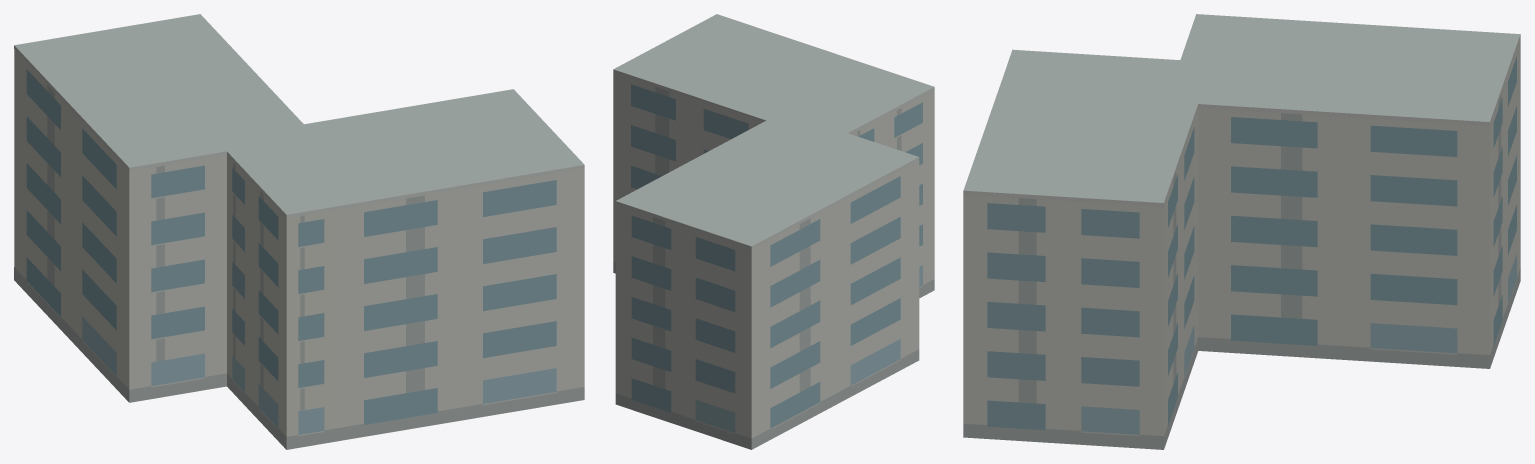
Rendered from residential-8a7d424c-479a-4457-b61d-cda4567e0a94.glb.
3 views of the same model, side by side, from view 1: azimuth 30°, elevation 25°; view 2: azimuth 150°, elevation 25°; view 3: azimuth 270°, elevation 25° (orthographic). The views are drawn at different scales.
Parts seen in each view (by area): view 1: residential-8a7d424c-479a-4457-b61d-cda4567e0a94.tmp; view 2: residential-8a7d424c-479a-4457-b61d-cda4567e0a94.tmp; view 3: residential-8a7d424c-479a-4457-b61d-cda4567e0a94.tmp.
Boxes of the visible parts, x1,y1,x2,y2 form: residential-8a7d424c-479a-4457-b61d-cda4567e0a94.tmp: (14,14,584,449); residential-8a7d424c-479a-4457-b61d-cda4567e0a94.tmp: (613,14,934,449); residential-8a7d424c-479a-4457-b61d-cda4567e0a94.tmp: (963,14,1520,449).
Size of the model in its own units: 25.06 by 15.25 by 31.2.
